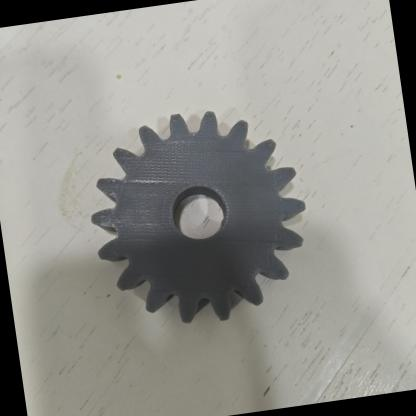gear: (79, 98, 318, 336)
